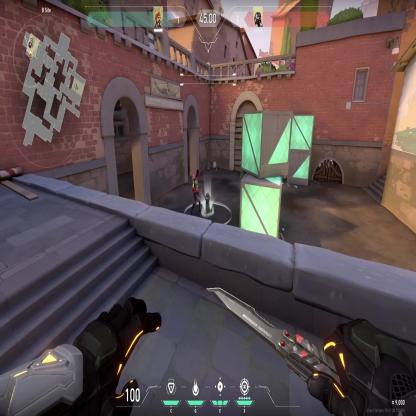enemy: (190, 168, 202, 219)
